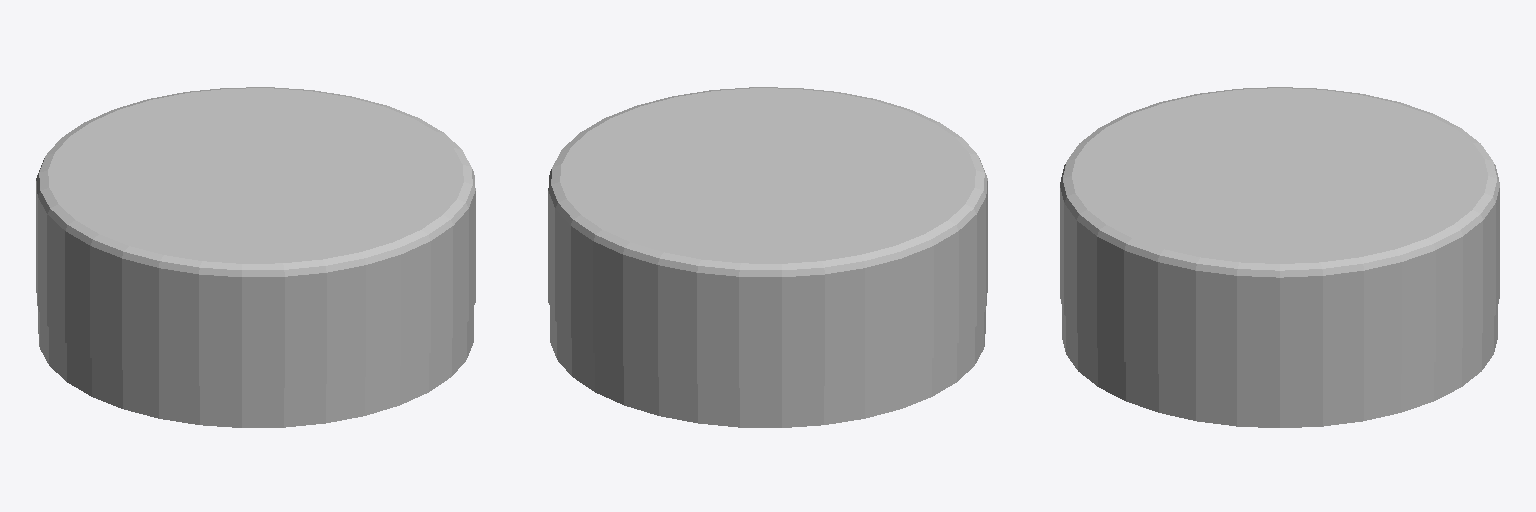
The model's file is mdl_tapa_nocarbonatada_33mm.obj.
3 views of the same model, side by side, from view 1: azimuth 30°, elevation 25°; view 2: azimuth 150°, elevation 25°; view 3: azimuth 270°, elevation 25° (orthographic).
Parts seen in each view (by area): view 1: mdl_tapa_nocarbonatada_33mm; view 2: mdl_tapa_nocarbonatada_33mm; view 3: mdl_tapa_nocarbonatada_33mm.
Boxes of the visible parts, box(x1,y1,x2,y2) form: mdl_tapa_nocarbonatada_33mm: box(36, 87, 475, 427); mdl_tapa_nocarbonatada_33mm: box(548, 87, 987, 427); mdl_tapa_nocarbonatada_33mm: box(1060, 87, 1499, 427).
Bounding box in the file's own units: 3.48 × 1.4 × 3.48.